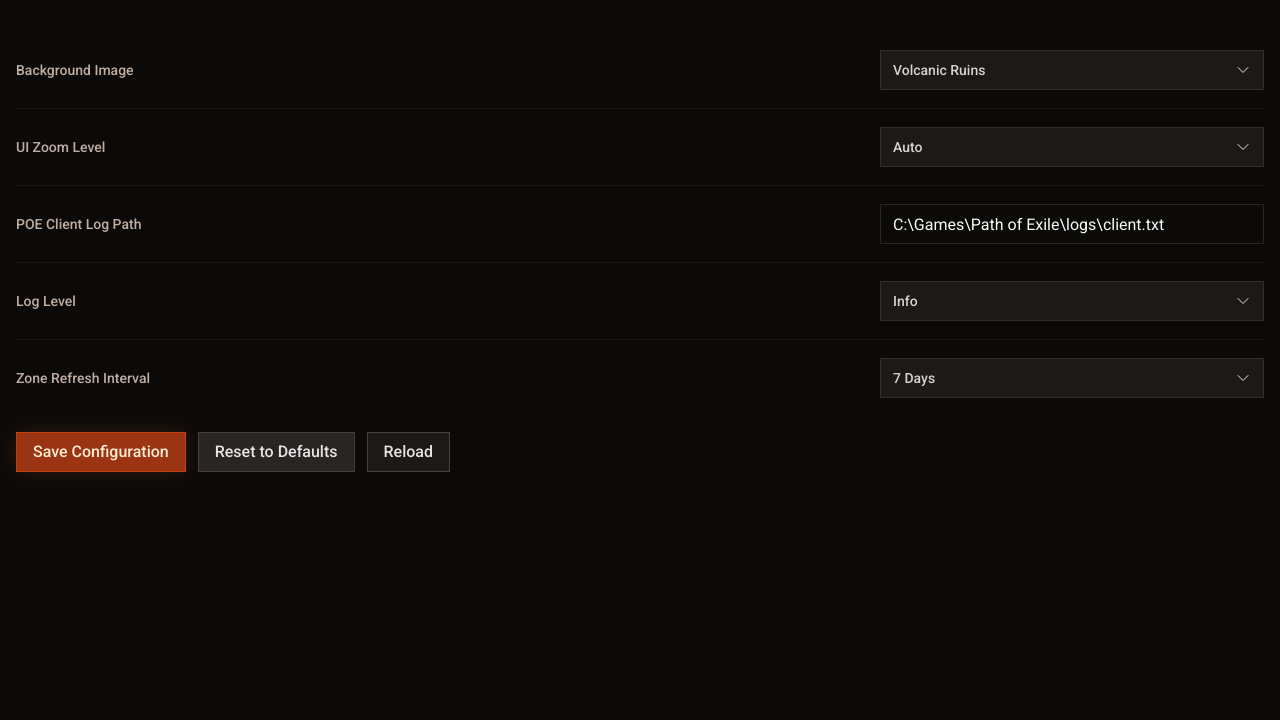
SettingsForm › Save Configuration › shows error when save fails
Click the button "Save Configuration" at [101, 452], box x1=16 y1=432 x2=186 y2=472
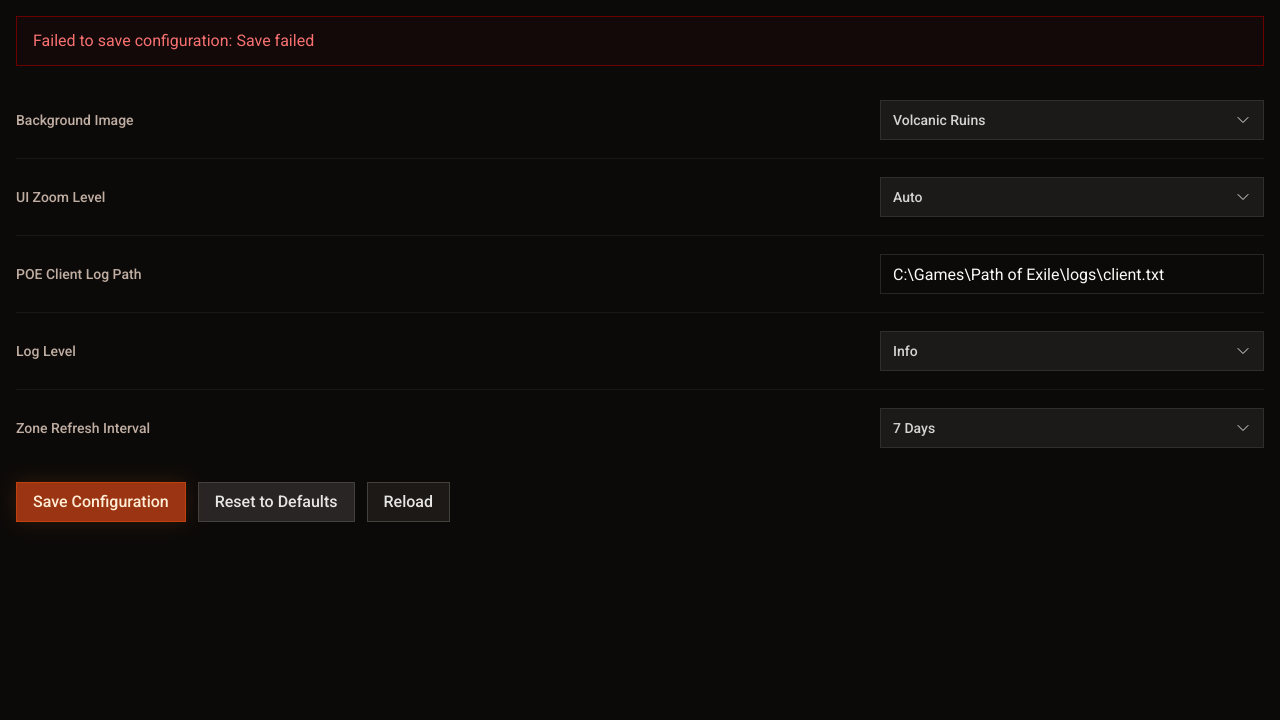
expect the text "Failed to save configuration: Save failed" is shown: met, box x1=16 y1=16 x2=1264 y2=66
